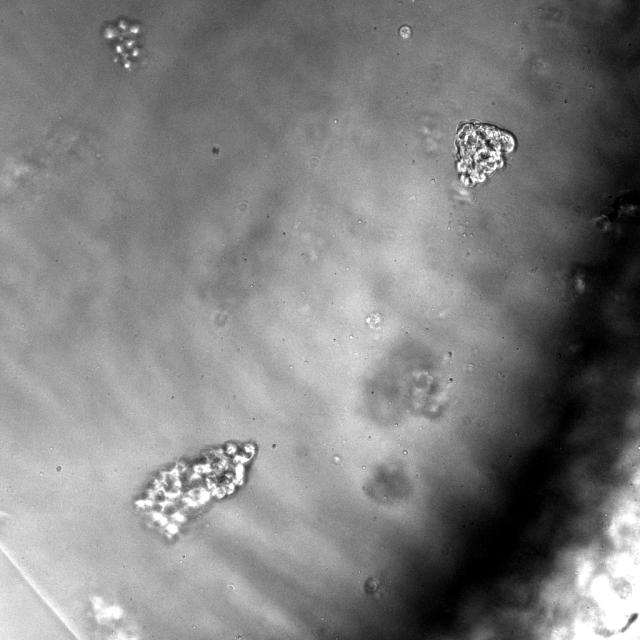organoid: (135, 440, 257, 539), (456, 120, 516, 187), (102, 16, 143, 70), (363, 576, 379, 594), (398, 24, 413, 39), (212, 146, 219, 156)
